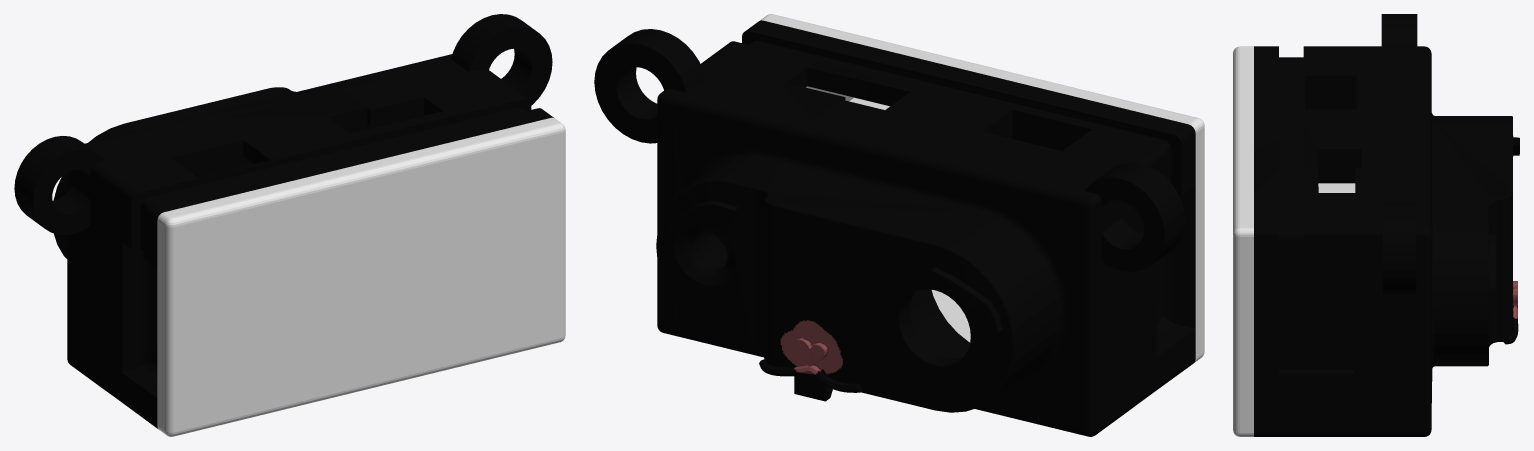
Rendered from yzaaa.glb.
3 renders of one model, left to right at view 1: azimuth 30°, elevation 25°; view 2: azimuth 150°, elevation 25°; view 3: azimuth 270°, elevation 25°, orthographic. The views are drawn at different scales.
Parts seen in each view (by area): view 1: final-back, final-front; view 2: final-front, final-back; view 3: final-front, final-back.
Part boxes in pixels (bbox=[...]): final-back: bbox=[157, 117, 565, 436]; final-front: bbox=[14, 14, 553, 429]; final-front: bbox=[594, 20, 1195, 436]; final-back: bbox=[759, 14, 1204, 362]; final-front: bbox=[1254, 14, 1519, 436]; final-back: bbox=[1233, 46, 1355, 436].
Size of the model in its own units: 0.0816 by 0.0379 by 0.0408.
1 material, 1 textured.
